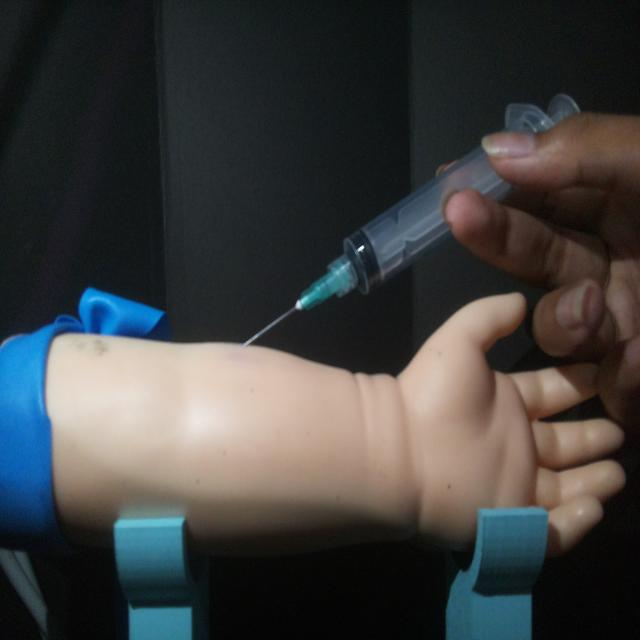30deg: (240, 83, 586, 351)
